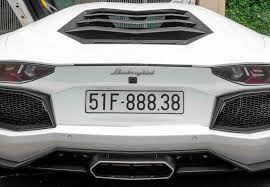Car number plates: (85, 89, 183, 113)
